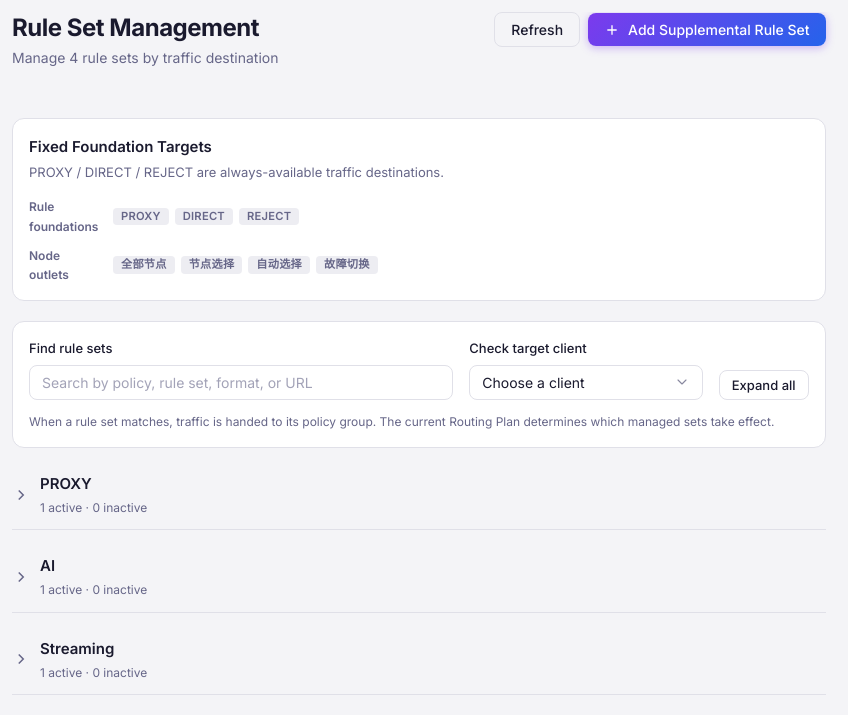
Test: RemoteRuleSets content validation › collapses a large policy library and searches across hidden sections
The image size is (848, 715).
Click the button "Expand all". click: (764, 385)
box: [719,370,809,400]
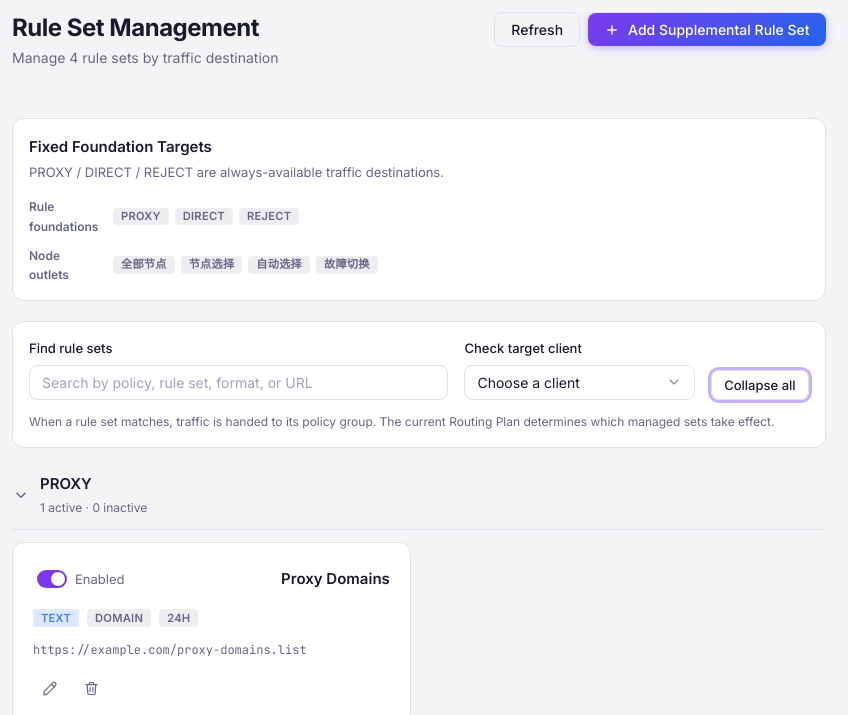
Expected: the button "Collapse all" is shown
Click the button "Collapse all". click: (760, 385)
box: [711,370,809,400]
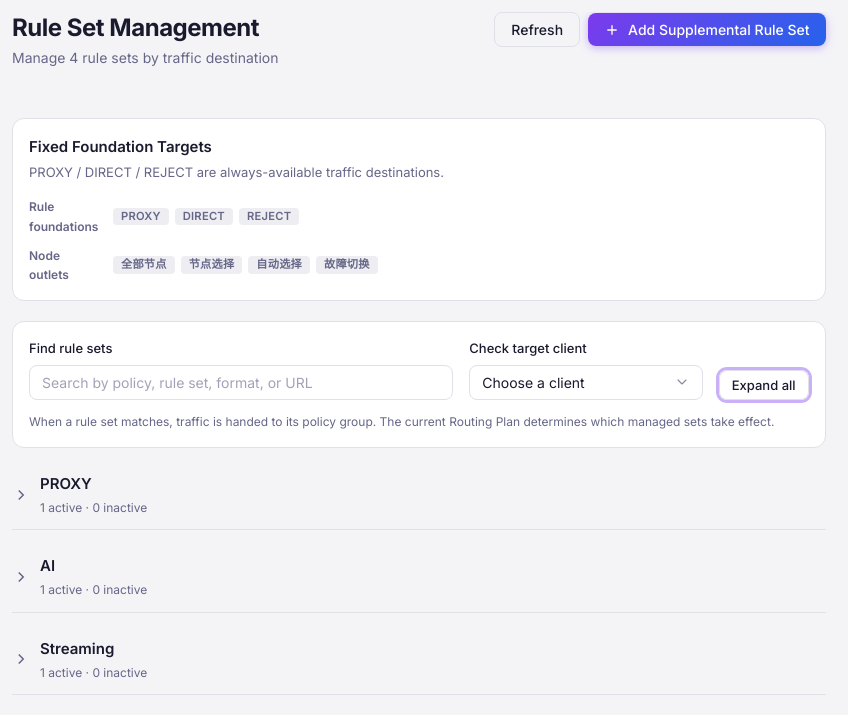
Expected: the button "Expand all" is shown, [719,370,809,400]
Click the button with aria-label "Toggle rule sets for PROXY". click: (66, 484)
box: [12,468,826,521]
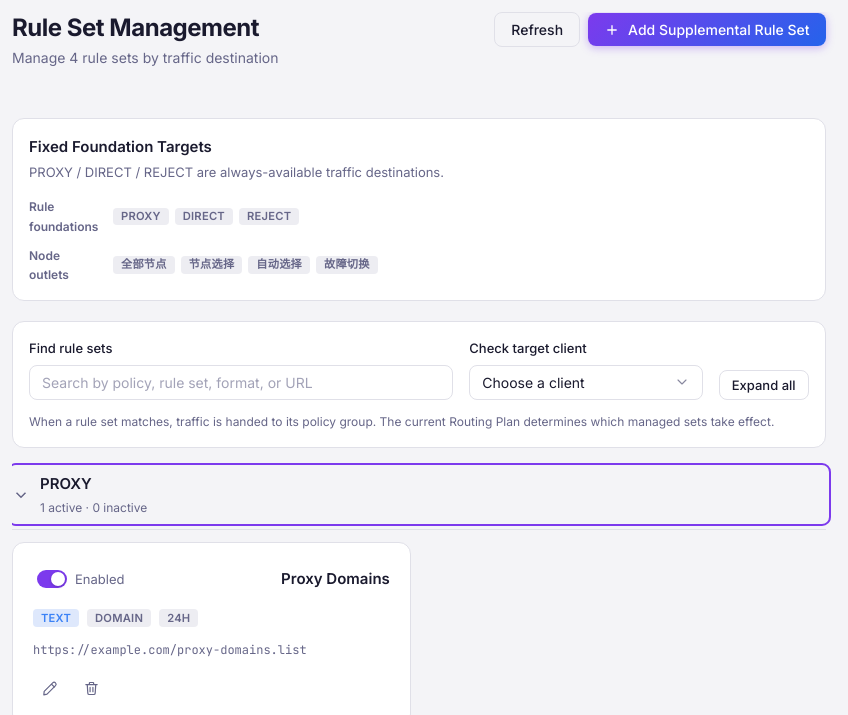
Expected: the button named "Edit" is shown, [33,673,65,705]
Expected: the text "Proxy Domains" is shown, [281,567,390,591]
Type "Netflix" into the field labelled "Find rule sets". click: (241, 382)
box: [29,365,453,400]
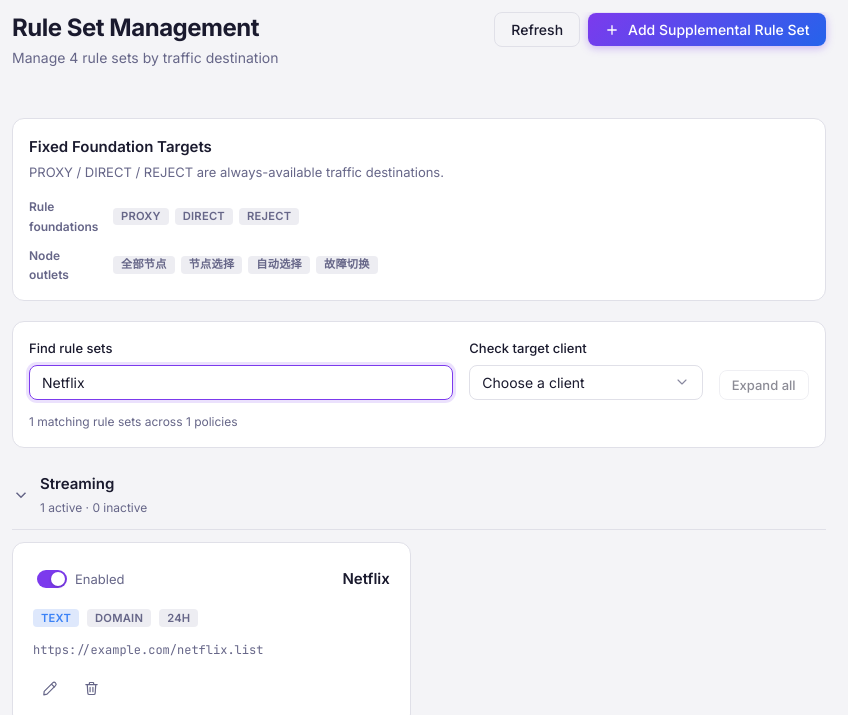
Expected: the text "Netflix" is shown, [342,567,390,591]
Expected: the text "Proxy Domains" is gone
Expected: the text "1 matching rule sets across 1 policies" is shown, [29,414,238,429]
